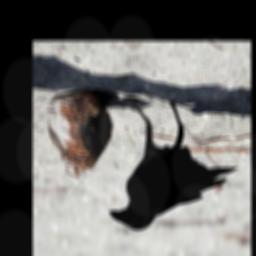Crow: (108, 95, 239, 231)
